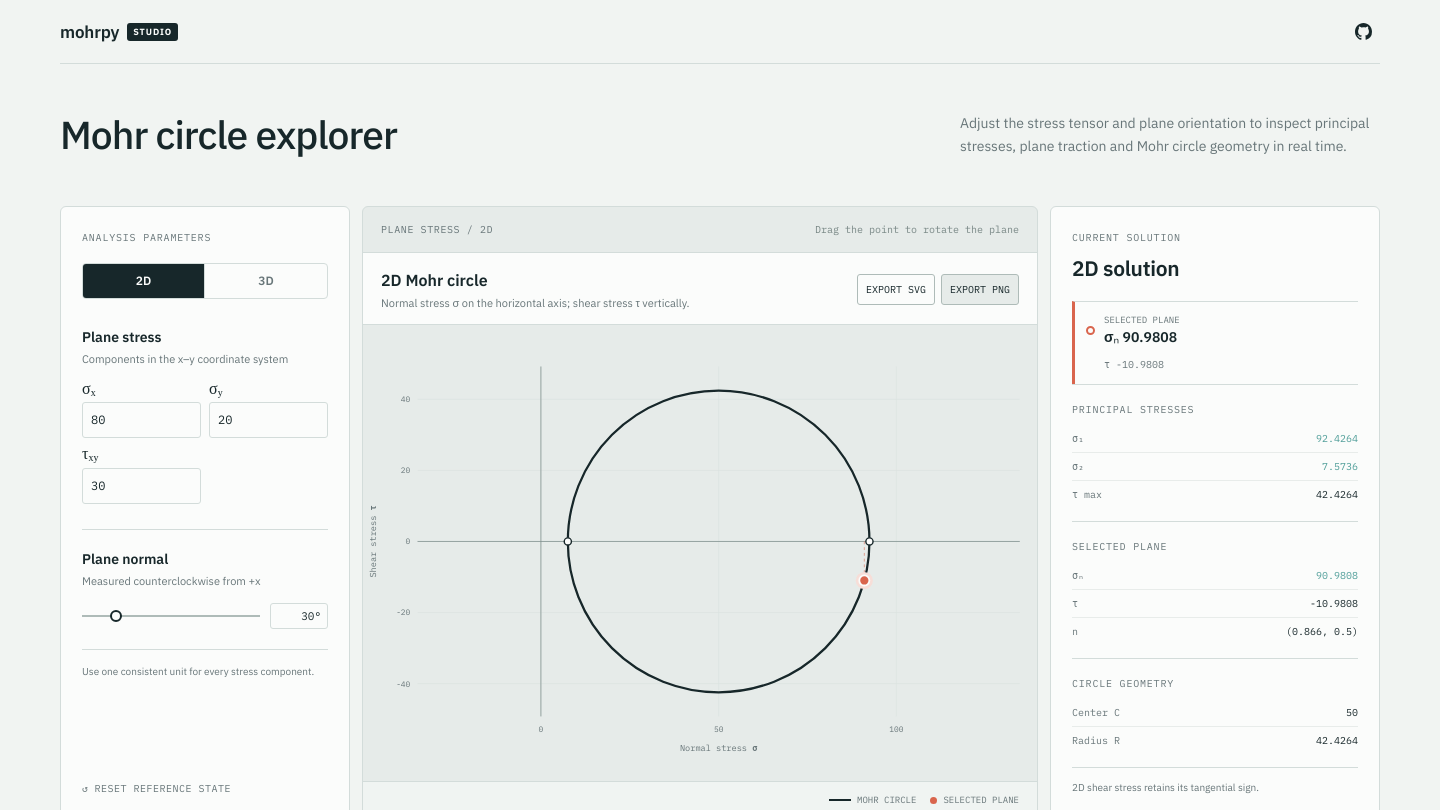
Test: interactive Mohr application › shows an inline error instead of plotting non-finite input
Step 1. Clear the number field labelled "σx" → (142, 420), box [82,402,201,438]
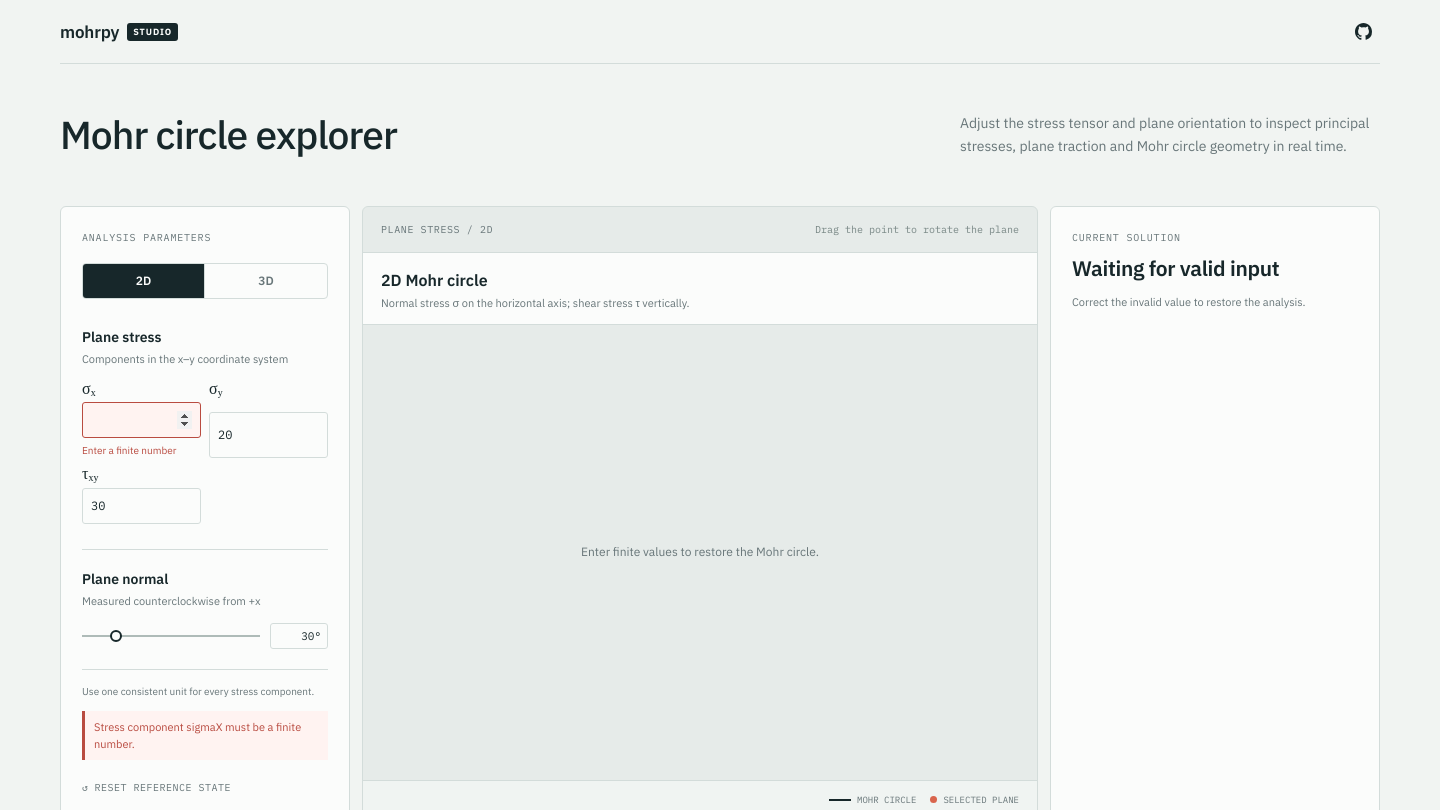
Now the message shows "must be a finite number", box [94,720,301,751]
